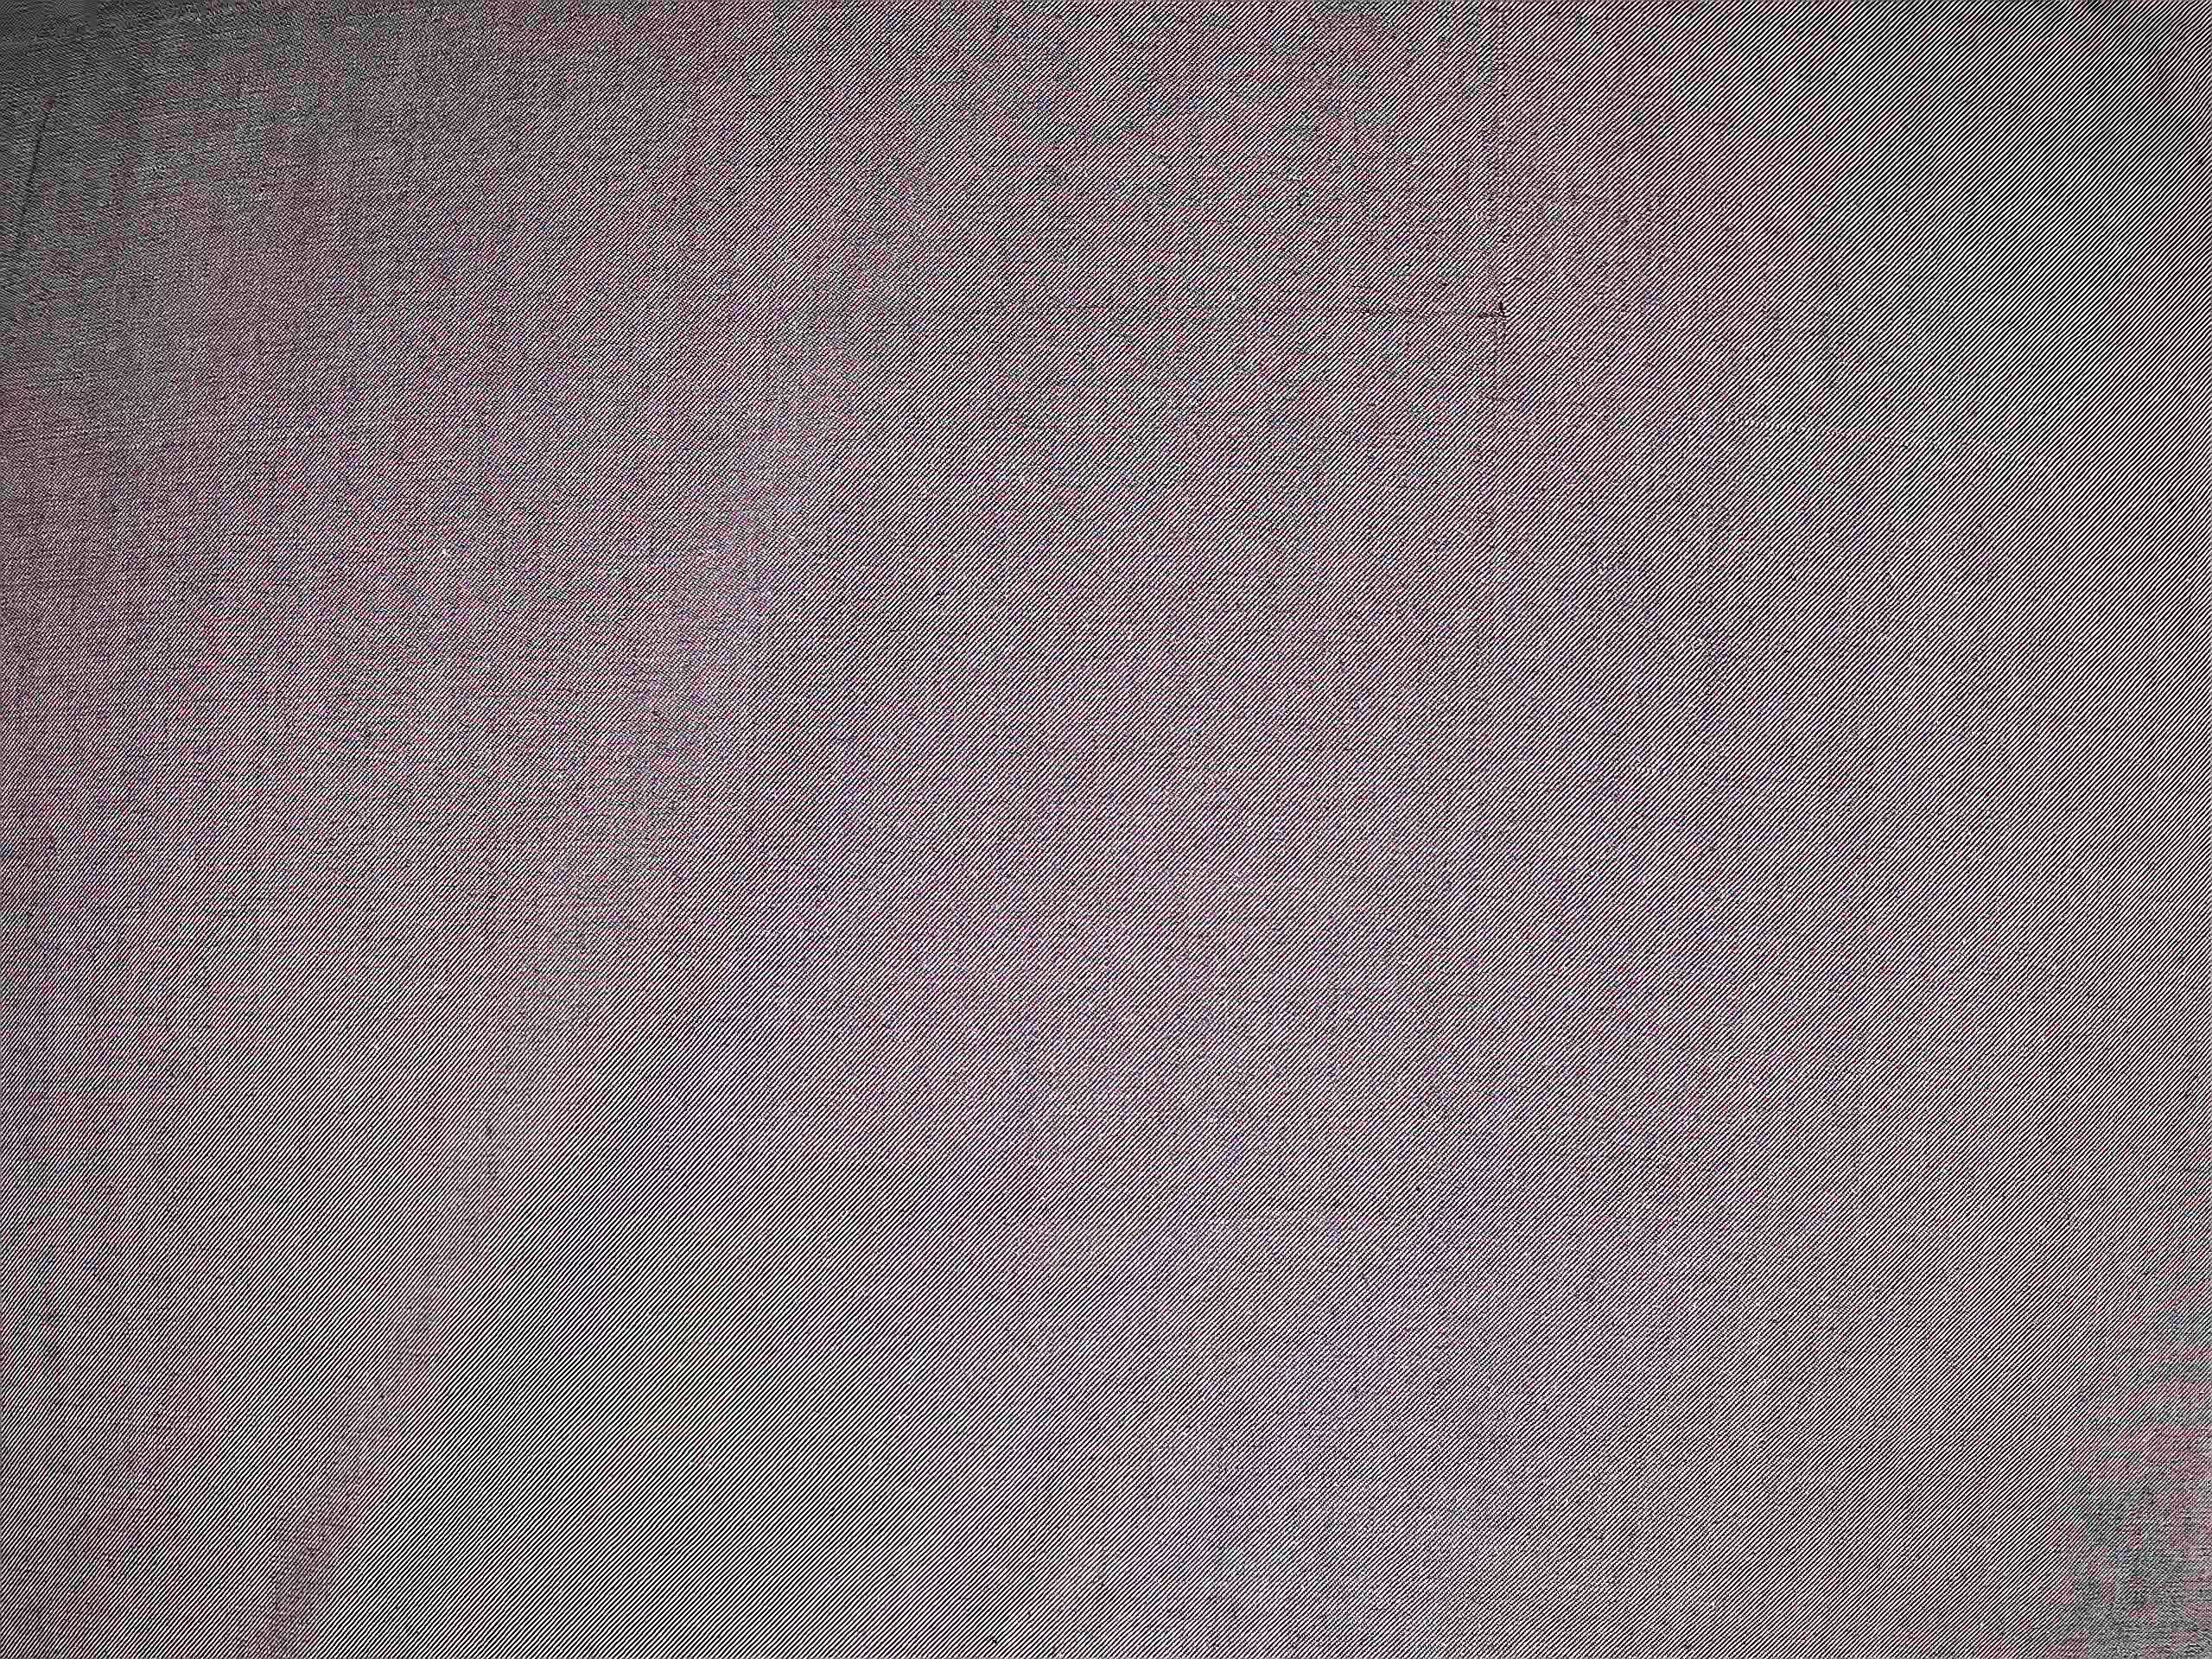hanging-warp: (1468, 66, 1527, 556)
